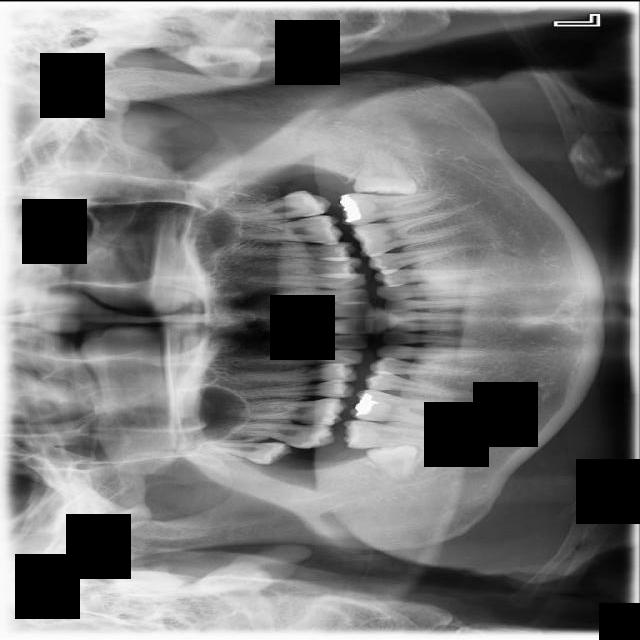3M ESPE Implant: (196, 438, 293, 465)
52: (336, 185, 384, 228), (349, 384, 398, 426)
73: (529, 53, 533, 56)
BioHorizons Implant: (212, 186, 332, 228)
Biomet 3i Implant: (351, 147, 420, 196)
Blue Sky Bio Implant: (336, 189, 443, 225)
Caries: (205, 419, 336, 449)
Implant: (342, 418, 454, 448)
Keystone Dental Implant: (358, 434, 419, 484)
